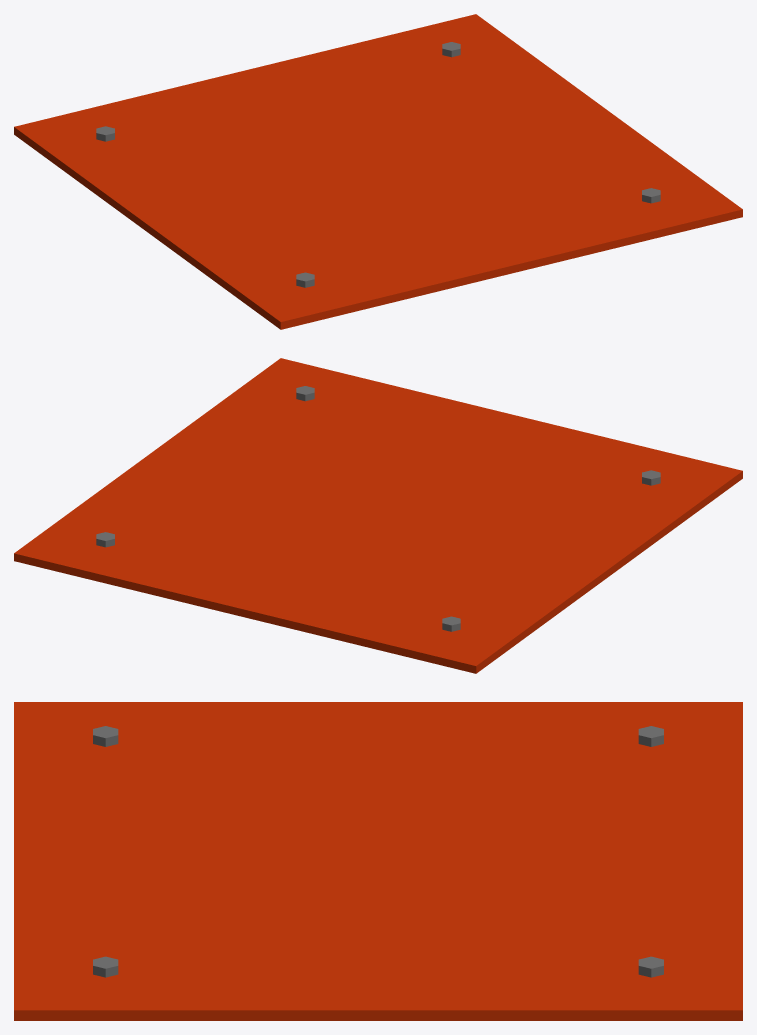
The model's file is Prop_Industrial_Sheet_Bolted_01.FBX.
The picture shows the model from 3 angles, top to bottom: view 1: azimuth 30°, elevation 25°; view 2: azimuth 150°, elevation 25°; view 3: azimuth 270°, elevation 25°; orthographic projection. The views are drawn at different scales.
Visible parts, largest first — view 1: Prop_Industrial_Sheet_Bolted_01; view 2: Prop_Industrial_Sheet_Bolted_01; view 3: Prop_Industrial_Sheet_Bolted_01.
Part boxes in pixels (<box>): Prop_Industrial_Sheet_Bolted_01: <box>14,14,742,329</box>; Prop_Industrial_Sheet_Bolted_01: <box>14,358,742,673</box>; Prop_Industrial_Sheet_Bolted_01: <box>14,702,742,1020</box>.
Bounding box in the file's own units: 2000 × 58.78 × 2000.
